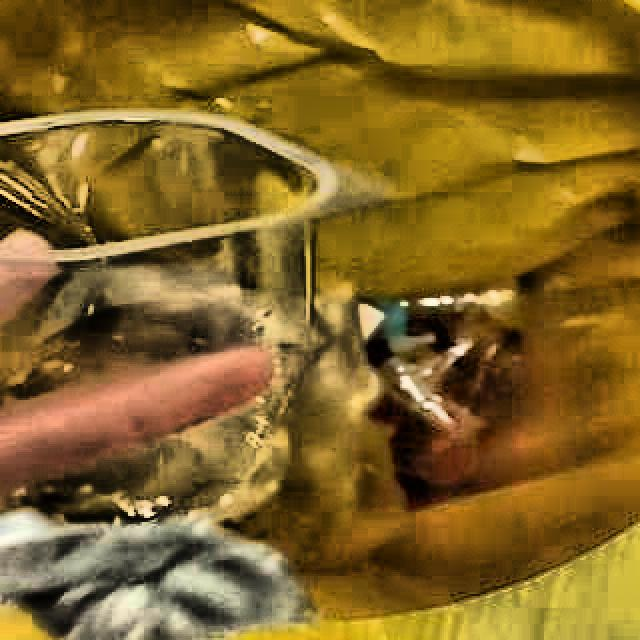plastic: (0, 110, 336, 522)
